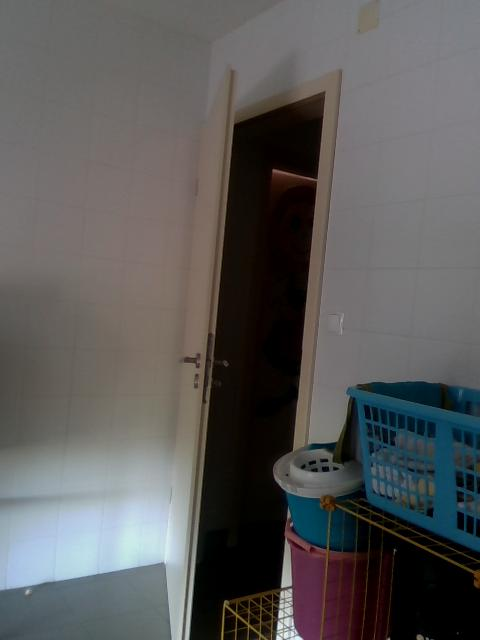semi_door: (159, 55, 345, 639)
